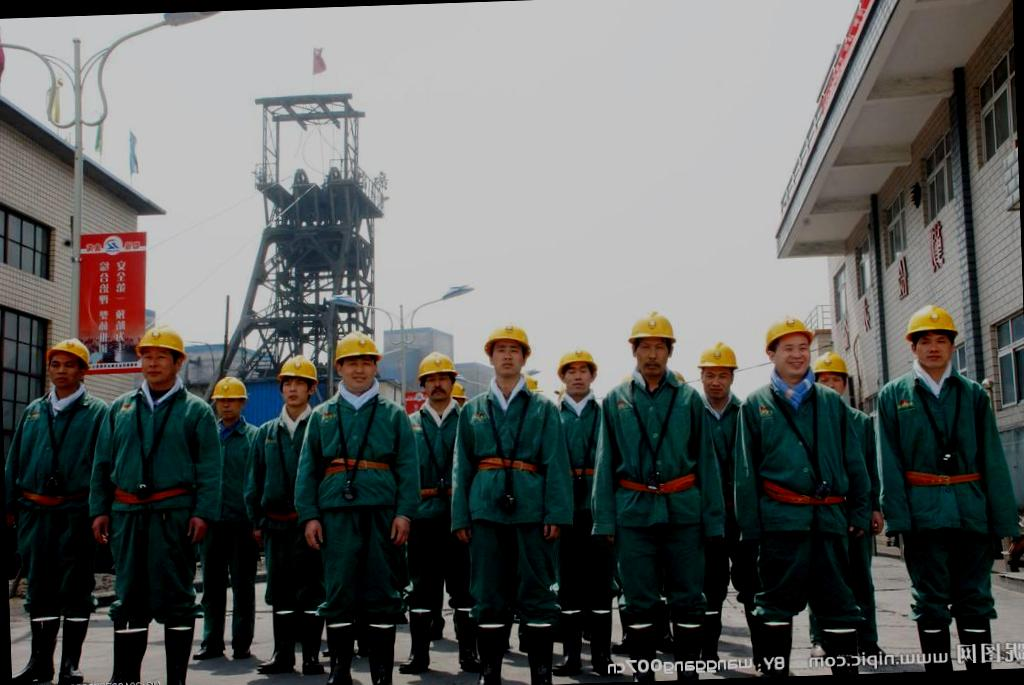helmet: (900, 294, 962, 352), (130, 320, 194, 374), (616, 307, 684, 356), (324, 330, 392, 374), (760, 314, 818, 354), (482, 320, 534, 364)
person: (866, 298, 1024, 671), (73, 321, 229, 685), (285, 323, 430, 685), (591, 302, 729, 682), (440, 315, 581, 685), (726, 307, 865, 677), (0, 335, 103, 685)
